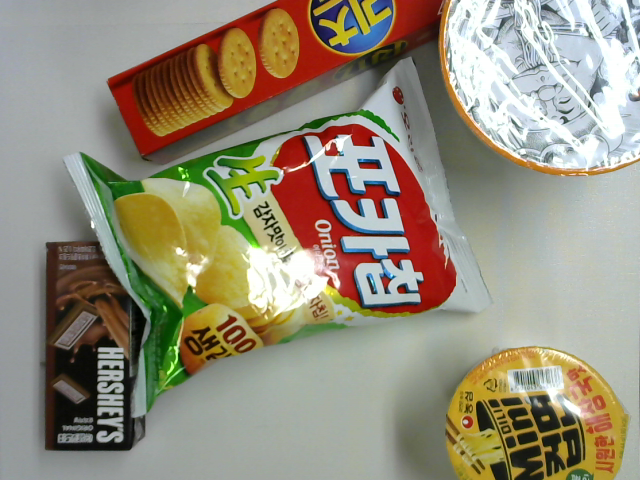Hejangchan: (440, 1, 640, 178)
Hejangmini: (441, 343, 630, 480)
Hush_Choco_Drink: (42, 236, 150, 455)
Pocachip_Onion: (57, 60, 495, 413)
Ritz_Cracker: (107, 1, 444, 166)
